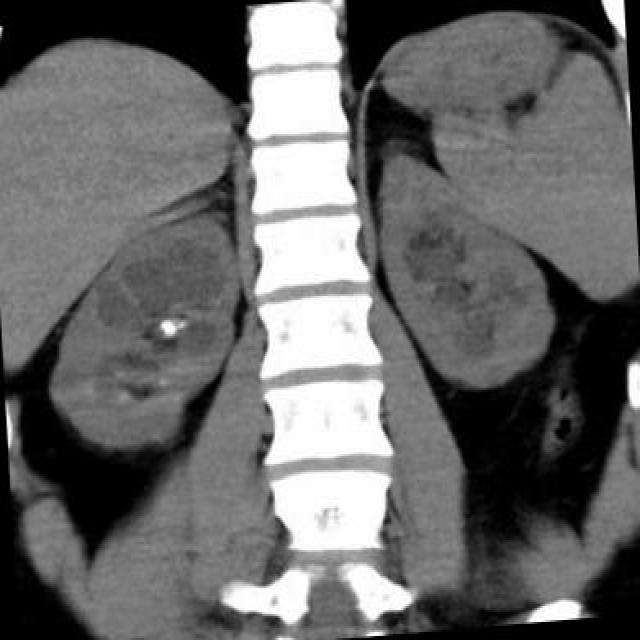Tas_Var: (157, 317, 175, 341)
